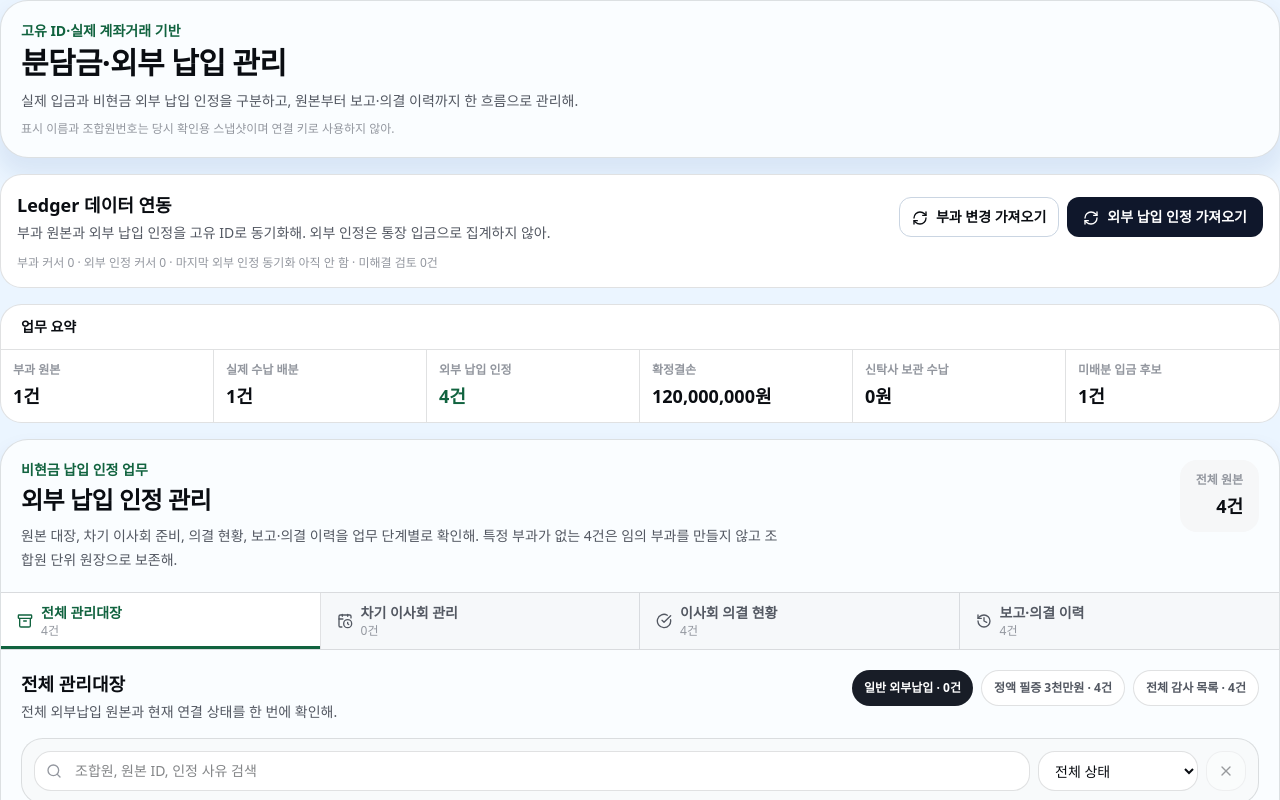
collection ledger page › filters fixed certificates by the current Ledger member classification without changing accounting
Click the tab "정액 필증 3천만원 · 4건": [1053, 688] box [981,670,1125,706]
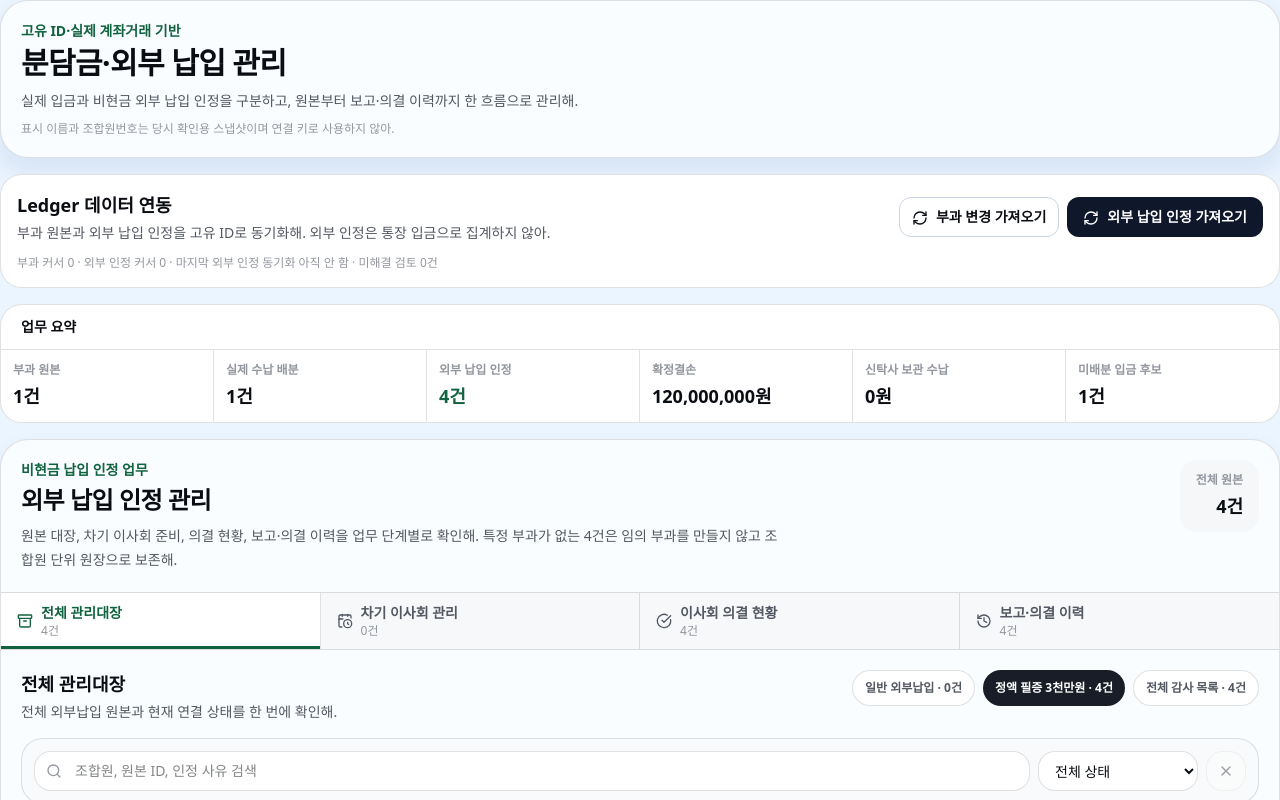
Select "취소·보존" in the dropdown named "외부 납입 상태": [1118, 771] box [1038,751,1198,791]
(page scrolled)
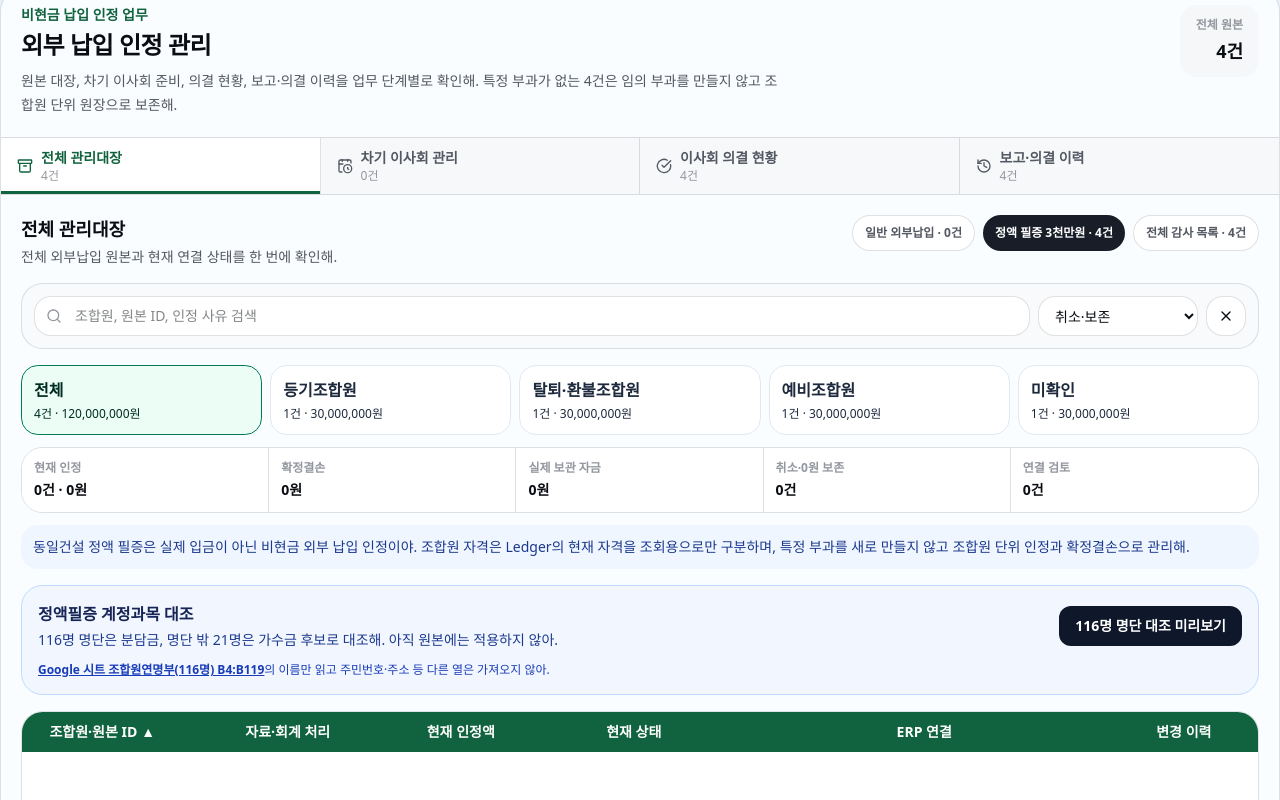
expect the text "환불 대상" is not shown: met
Click the tab "탈퇴·환불조합원 1건 · 30,000,000원": [640, 400] box [519,365,761,435]
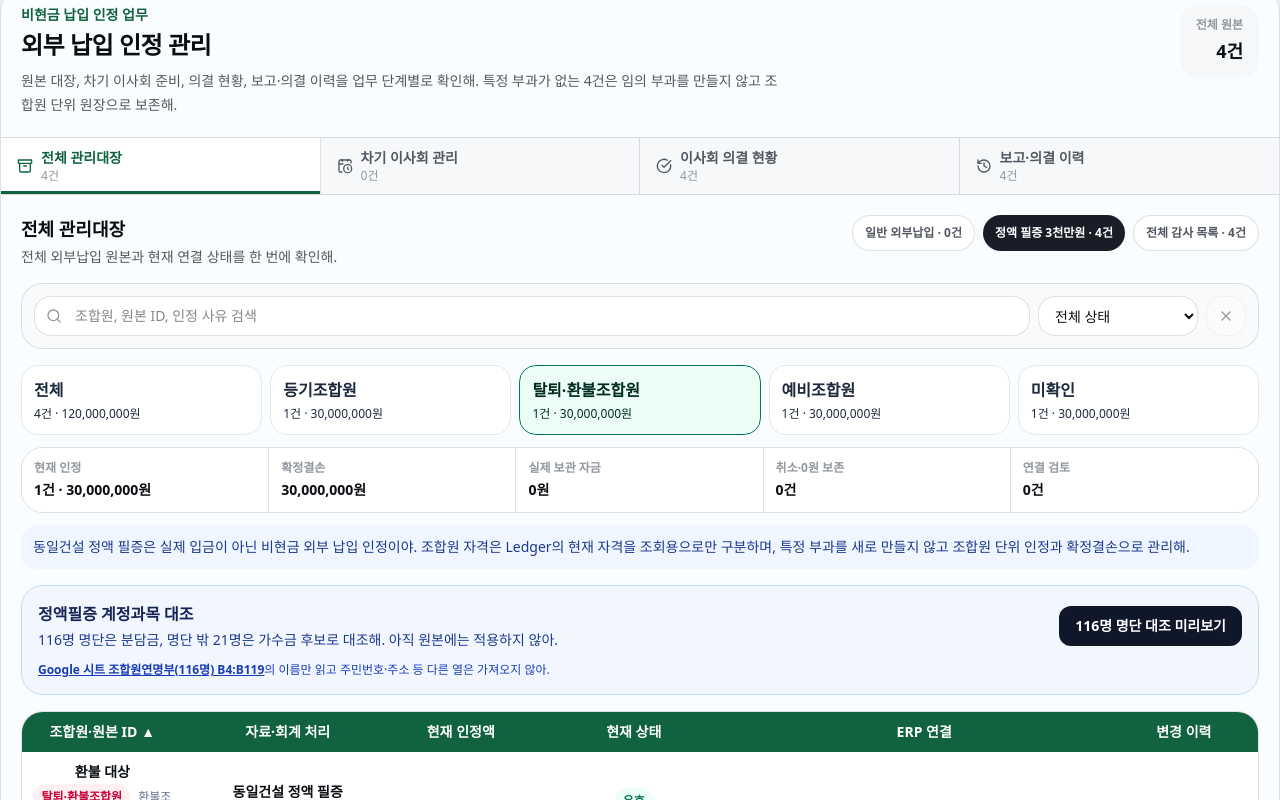
expect the text "환불 대상" is shown: met, box [75,762,130,781]
expect the 5th text "1건 · 30,000,000원" is shown: met, box [34,480,151,499]
